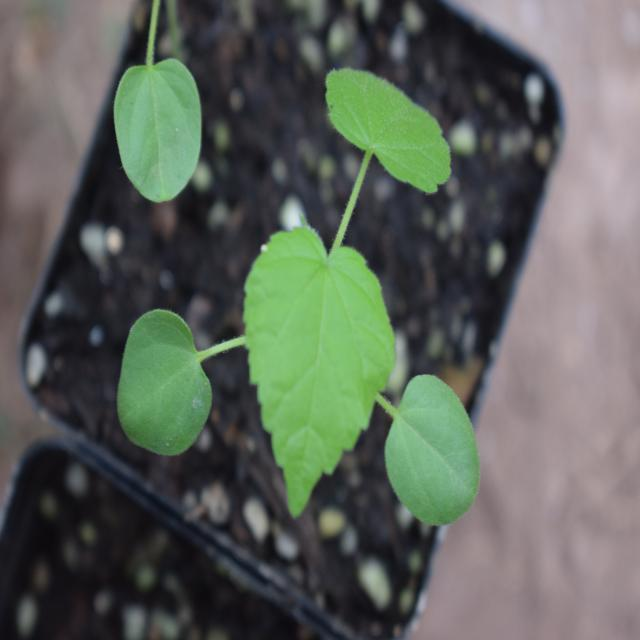abutilon theophrasti: (134, 78, 487, 530)
